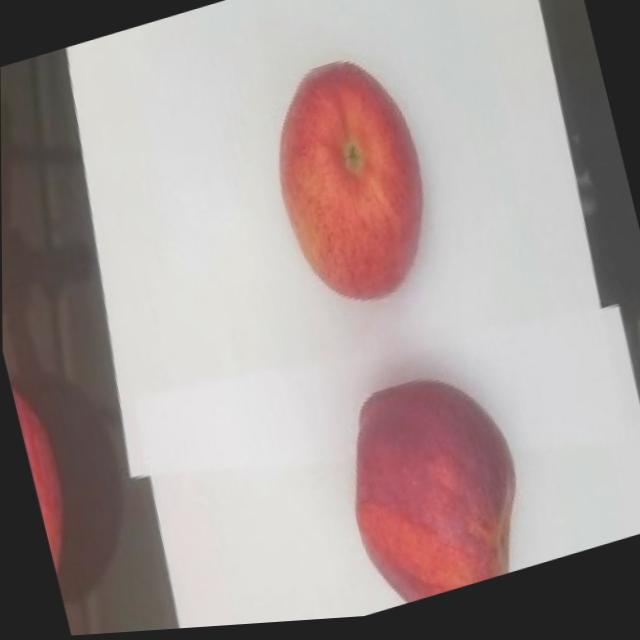Apple: (322, 355, 540, 620), (251, 43, 450, 329)
